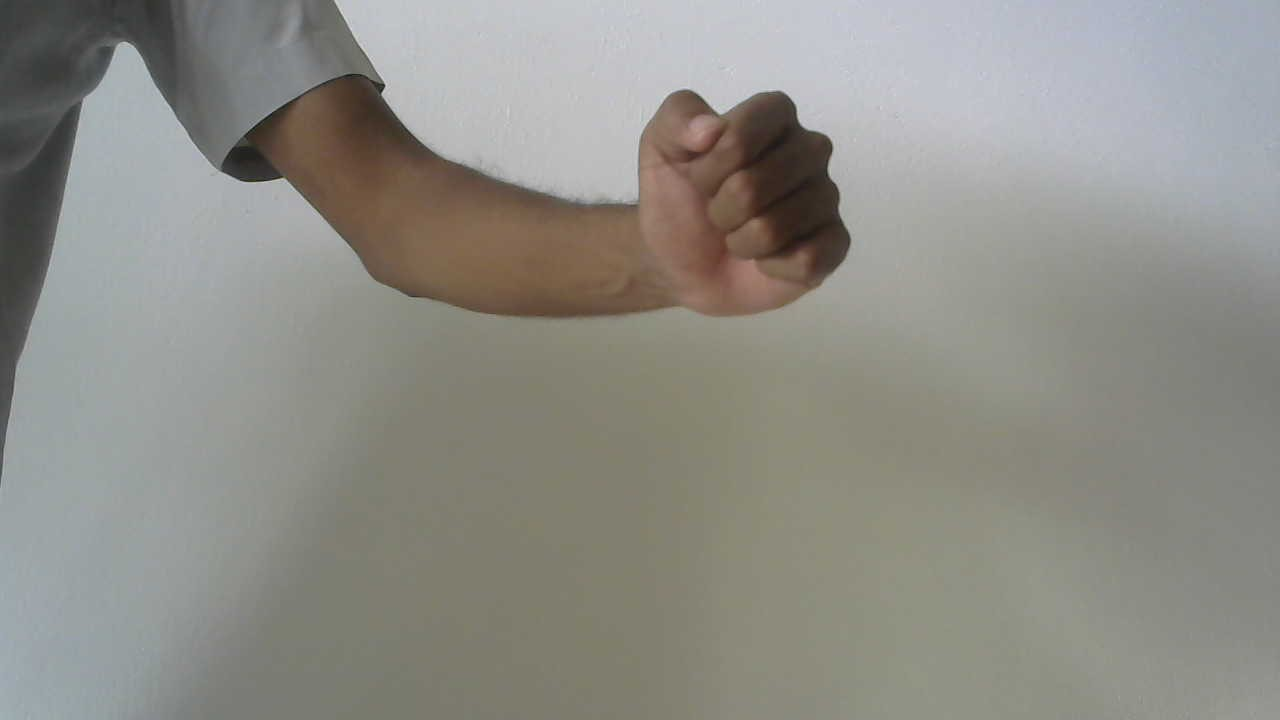yes: (634, 76, 859, 334)
